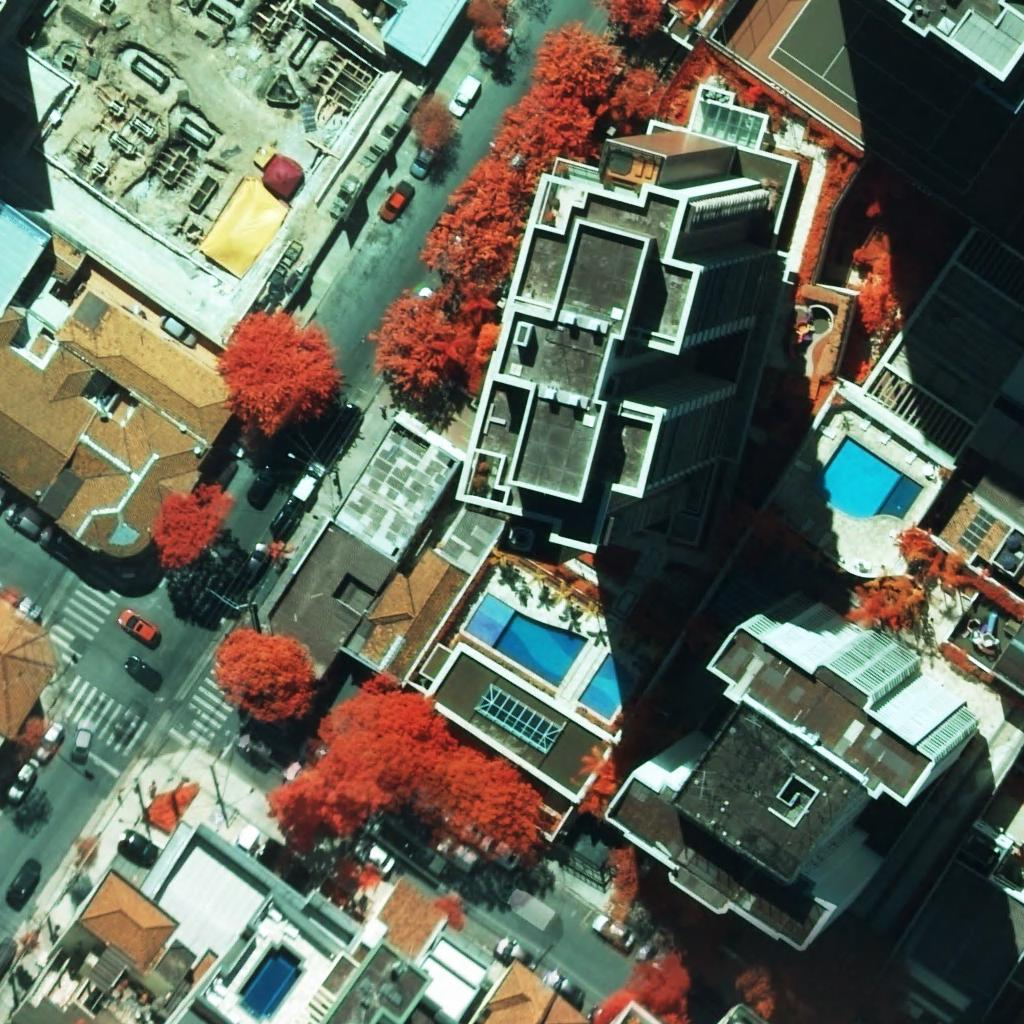pool: (464, 592, 633, 720), (811, 435, 924, 520), (239, 945, 301, 1019)
